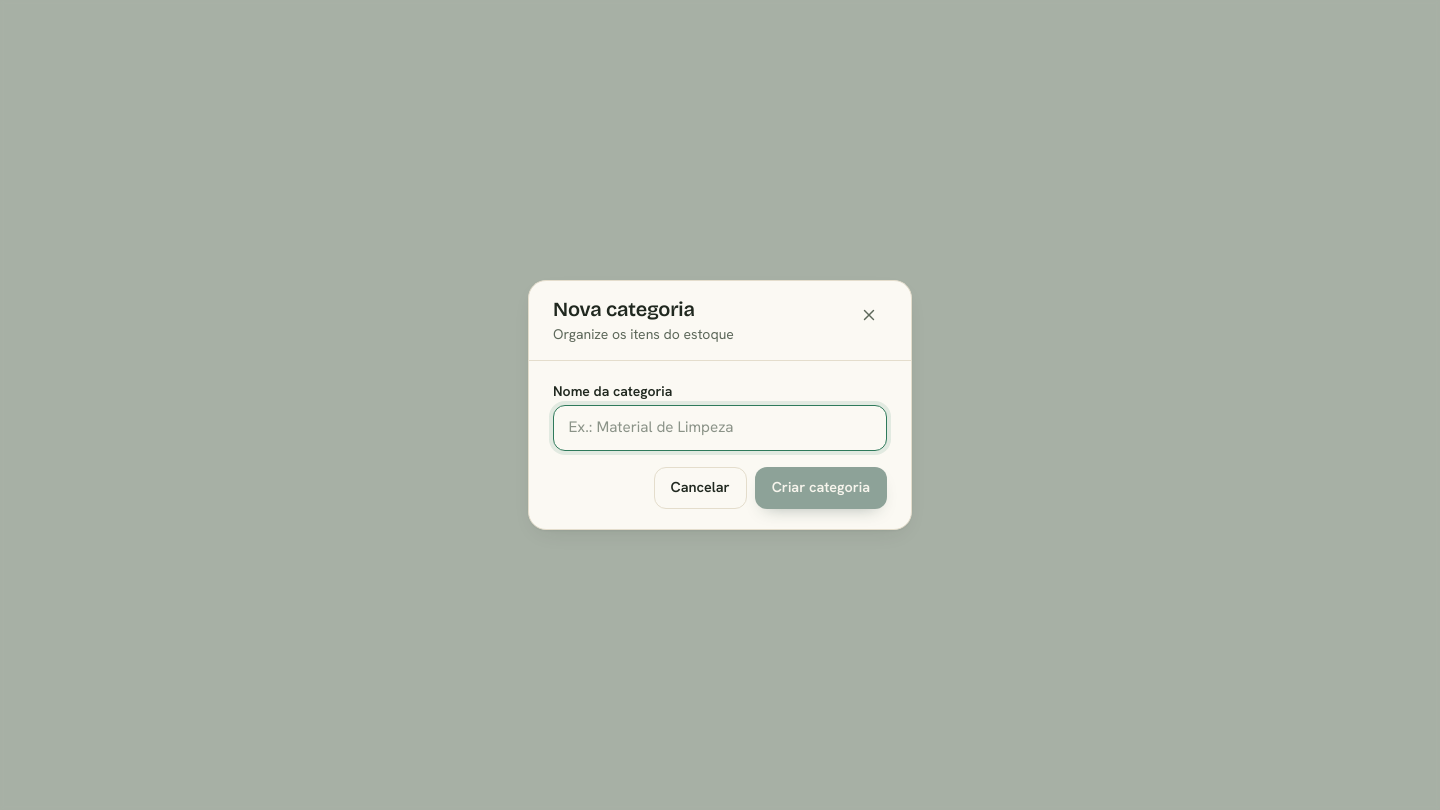
Scenario: NewCategoryModal › botão Criar categoria começa desabilitado e habilita ao digitar
The image size is (1440, 810).
Expected: the button "Criar categoria" is disabled, [755, 466, 887, 509]
Type "Higiene" into the field labelled "Nome da categoria" at [720, 428], box [553, 405, 887, 451]
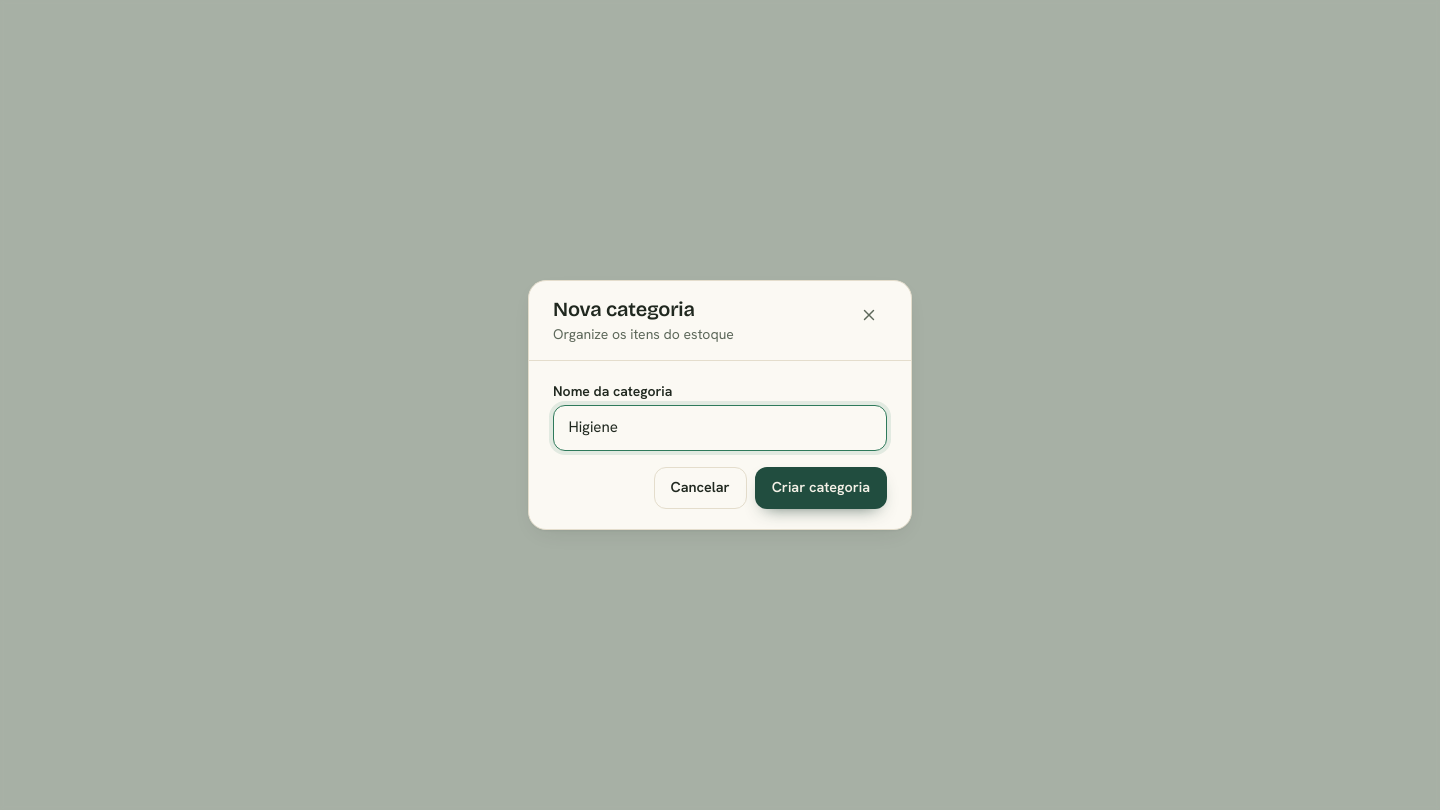
Result: the button "Criar categoria" is enabled at [755, 466, 887, 509]
